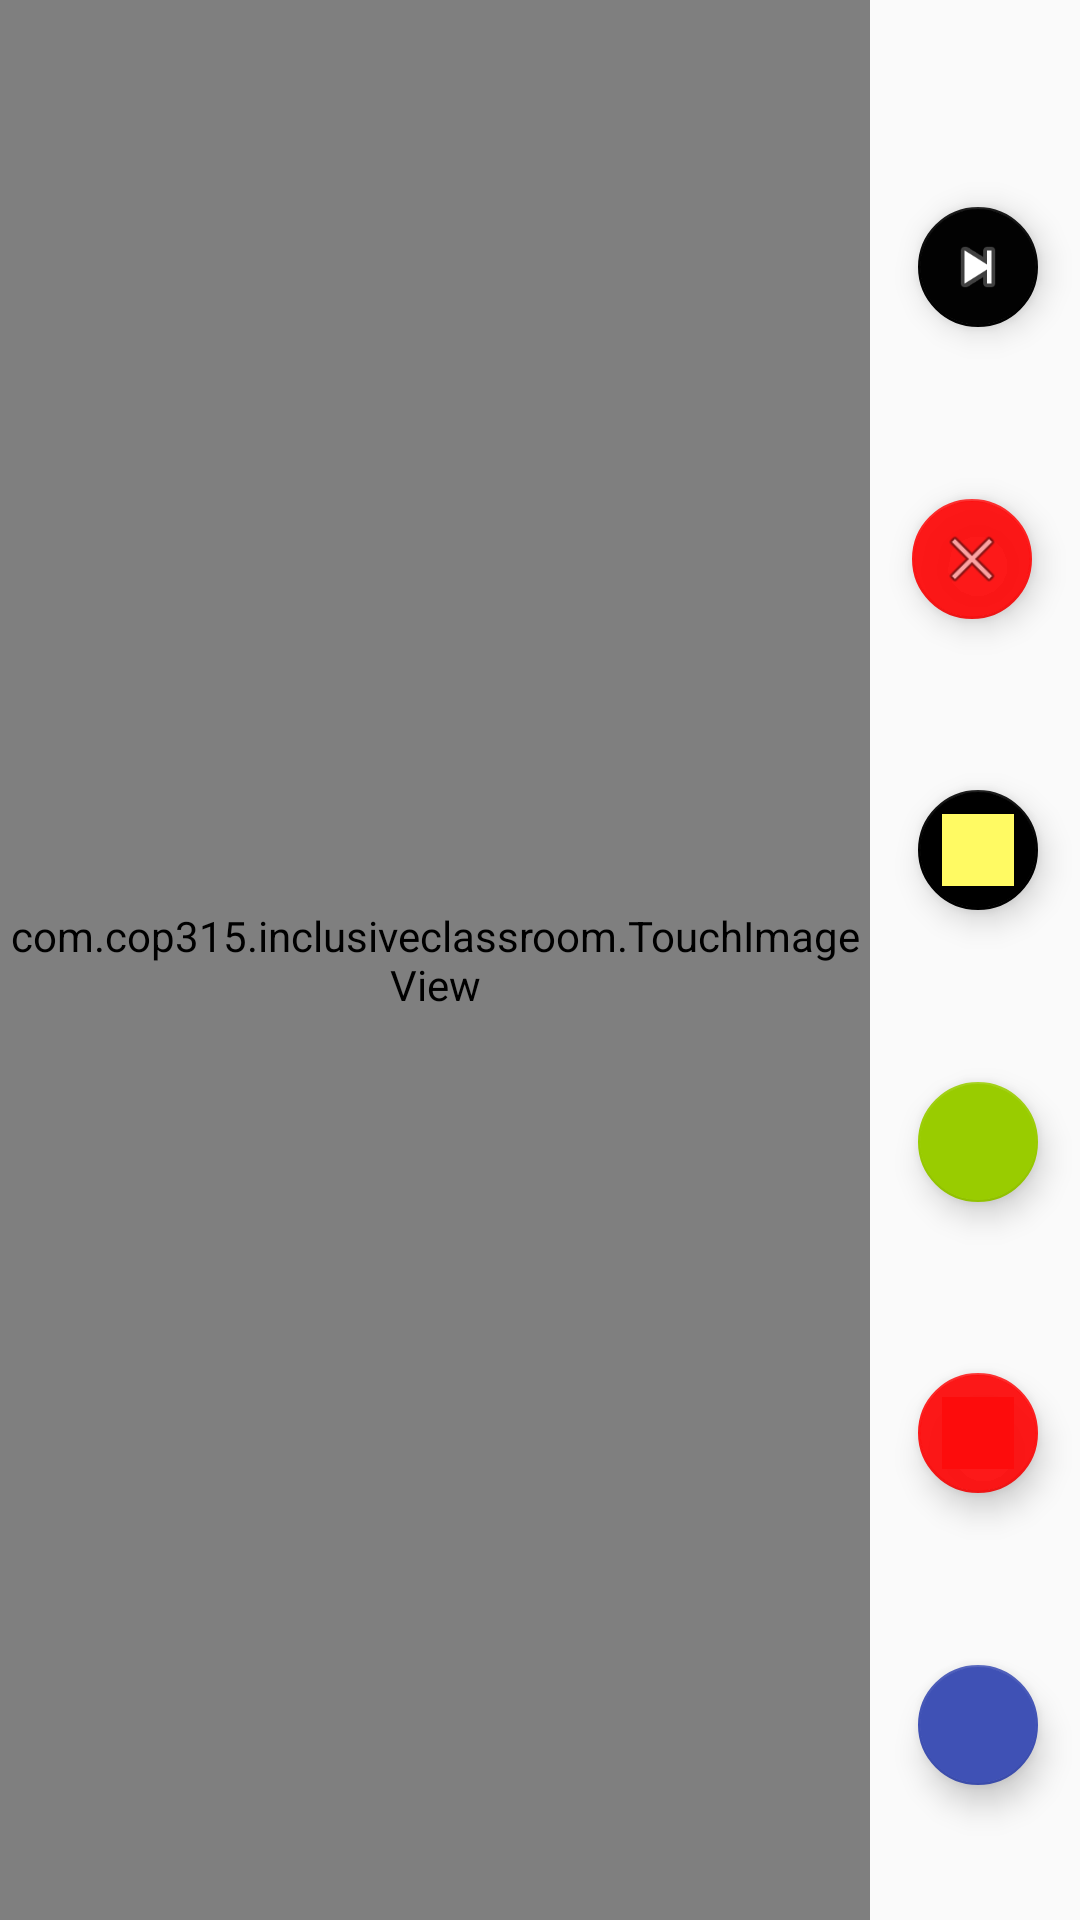

Named icons in this screenshot (1080*1920) and their centers, (x,y):
close clear cancel: (972,559)
next: (978,267)
